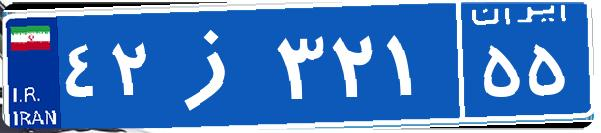1: (385, 28, 445, 110)
2: (330, 28, 385, 110), (110, 28, 158, 105)
3: (273, 28, 330, 110)
4: (57, 26, 110, 107)
5: (475, 38, 525, 113), (525, 38, 570, 115)
ز: (158, 15, 273, 115)
